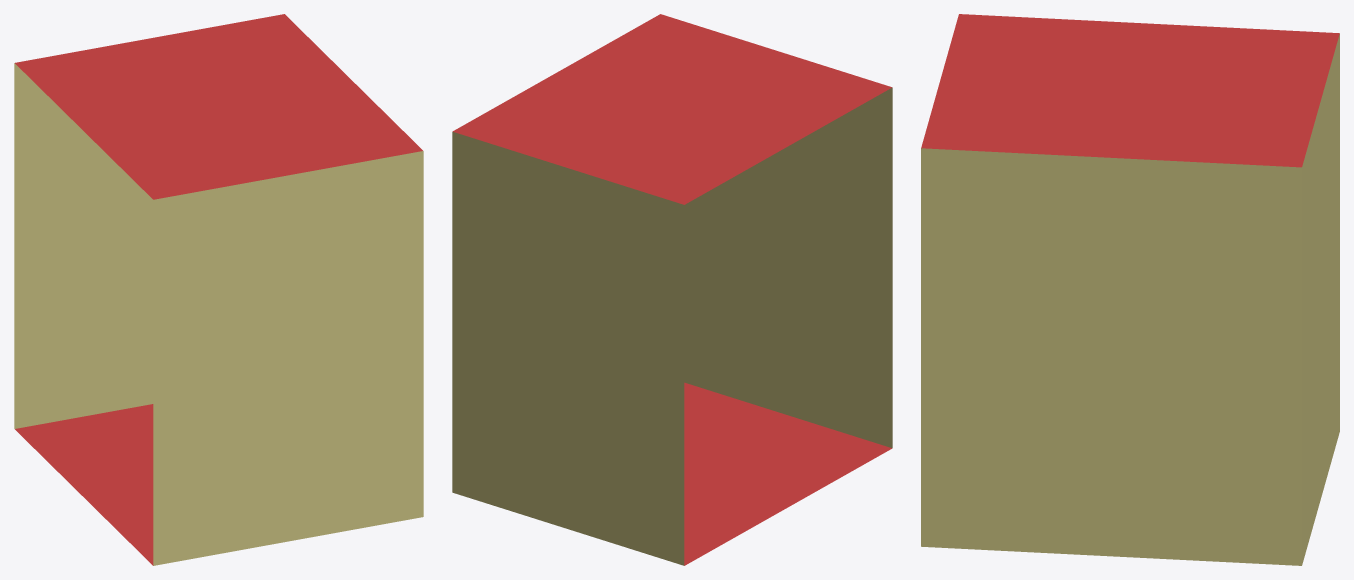
3 views of the same model, side by side, from view 1: azimuth 30°, elevation 25°; view 2: azimuth 150°, elevation 25°; view 3: azimuth 270°, elevation 25° (orthographic). The views are drawn at different scales.
Size of the model in its own units: 6 by 6.92 by 7.26.
